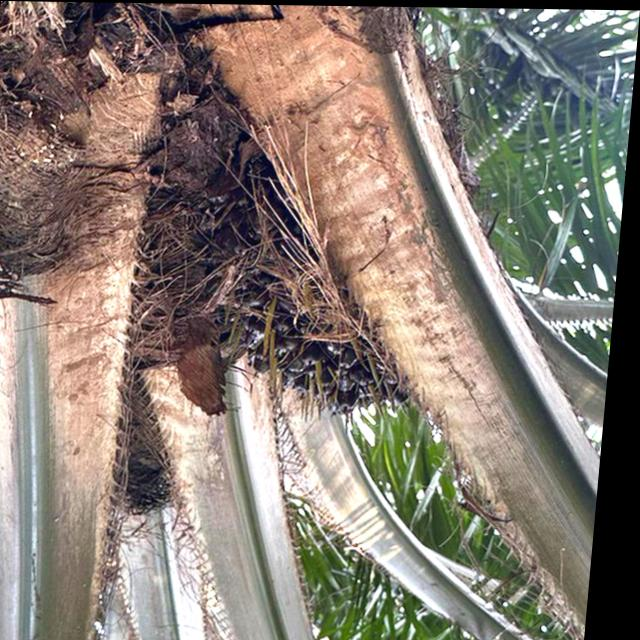ripe: (236, 188, 441, 447)
